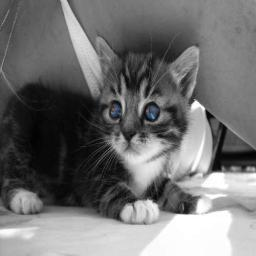catnose: (121, 122, 138, 142)
